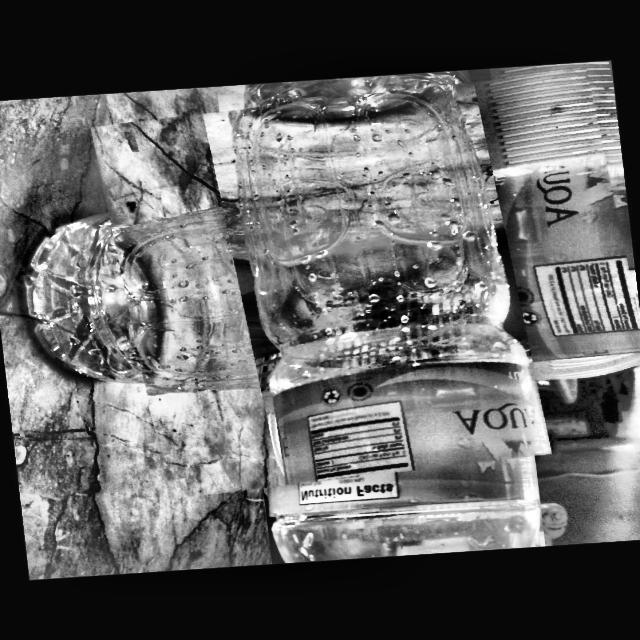Plastic-Bottle: (95, 71, 640, 494)
